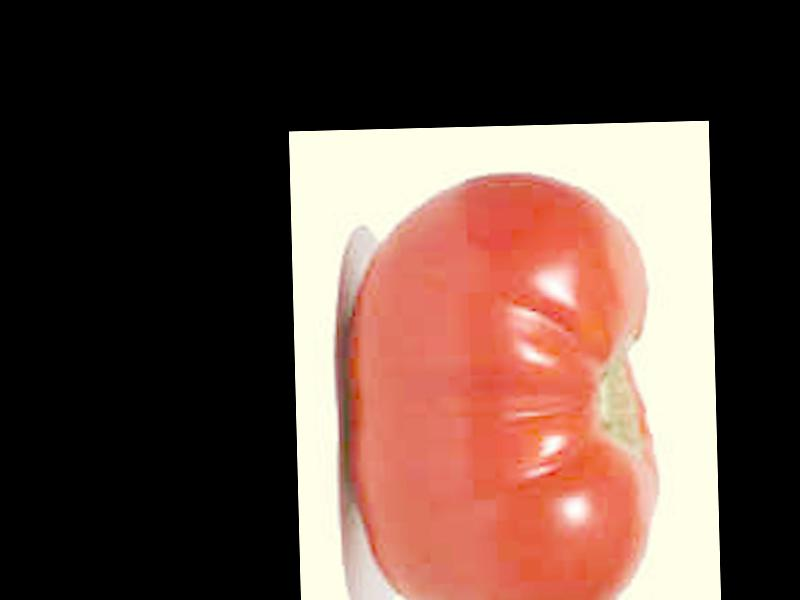Tomato: (345, 168, 663, 600)
